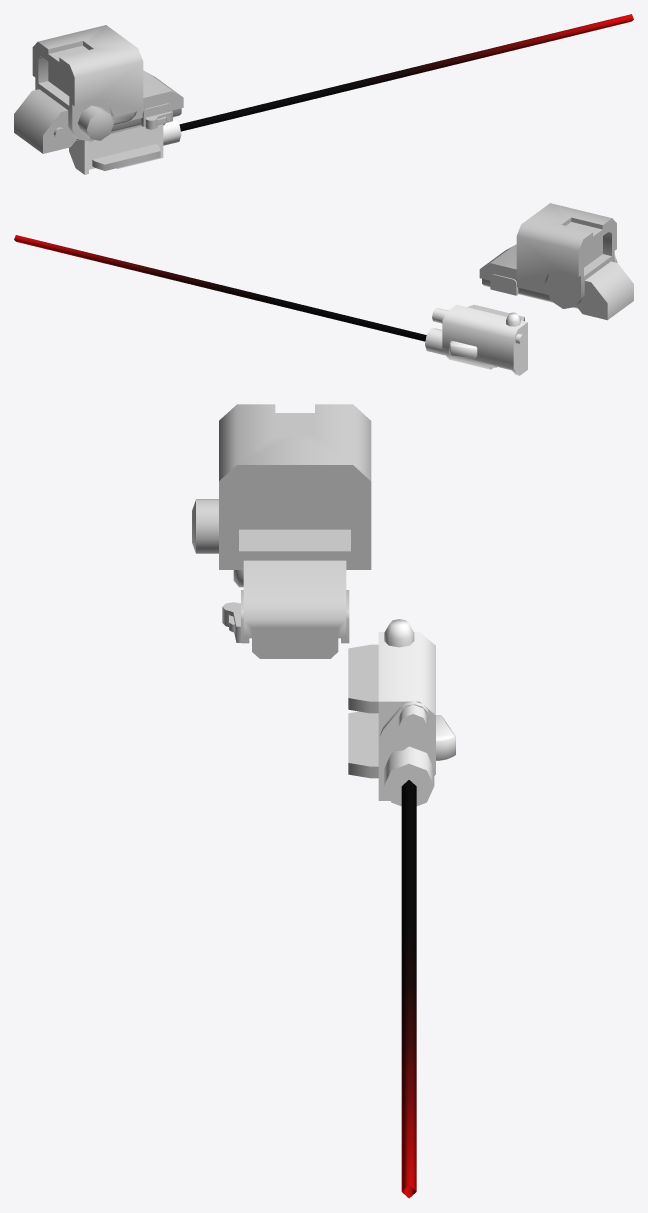
Rendered from SM_LWConvSMG_OpticB.fbx.
3 renders of one model, top to bottom at view 1: azimuth 30°, elevation 25°; view 2: azimuth 150°, elevation 25°; view 3: azimuth 270°, elevation 25°, orthographic. The views are drawn at different scales.
Parts seen in each view (by area): view 1: SM_LWConvSMG_OpticB.001; view 2: SM_LWConvSMG_OpticB.001; view 3: SM_LWConvSMG_OpticB.001.
Part boxes in pixels (x1,y1,x2,y2): SM_LWConvSMG_OpticB.001: (14,14,633,174); SM_LWConvSMG_OpticB.001: (14,203,633,375); SM_LWConvSMG_OpticB.001: (192,404,455,1198).
Bounding box in the file's own units: 46.14 × 9.15 × 10.67.
